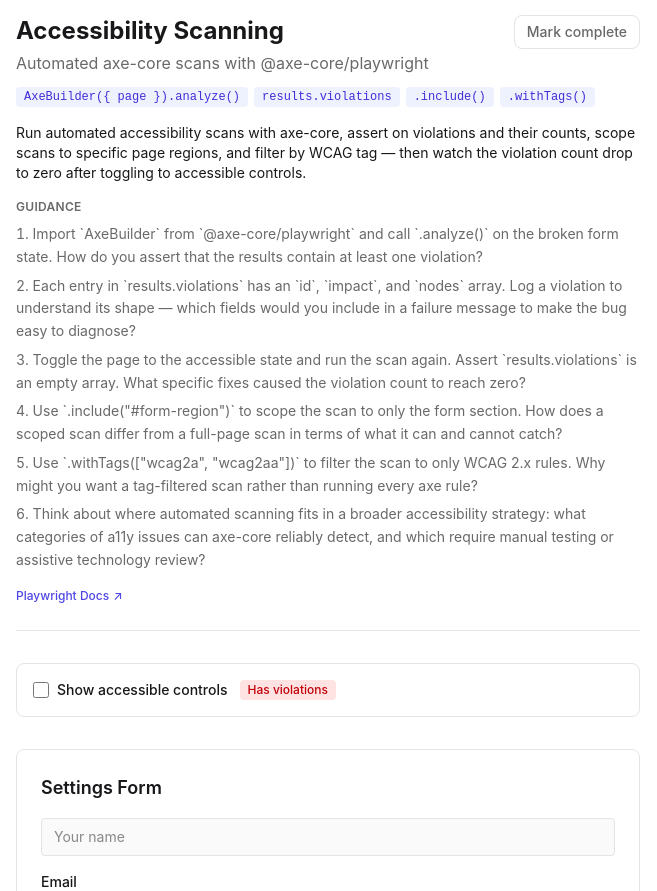
it: AccessibilityScanning › toggles between the intentionally broken and accessible form states
Expected: the text "Has violations" is shown, x1=240 y1=680 x2=336 y2=700
Expected: the field with placeholder "Your name" is shown, x1=41 y1=818 x2=615 y2=856
What coordinates should you click on to do the following:
click the checkbox labelled "Show accessible controls"
I would click on:
 (41, 690)
Its box is x1=33 y1=682 x2=49 y2=698.
(page scrolled)
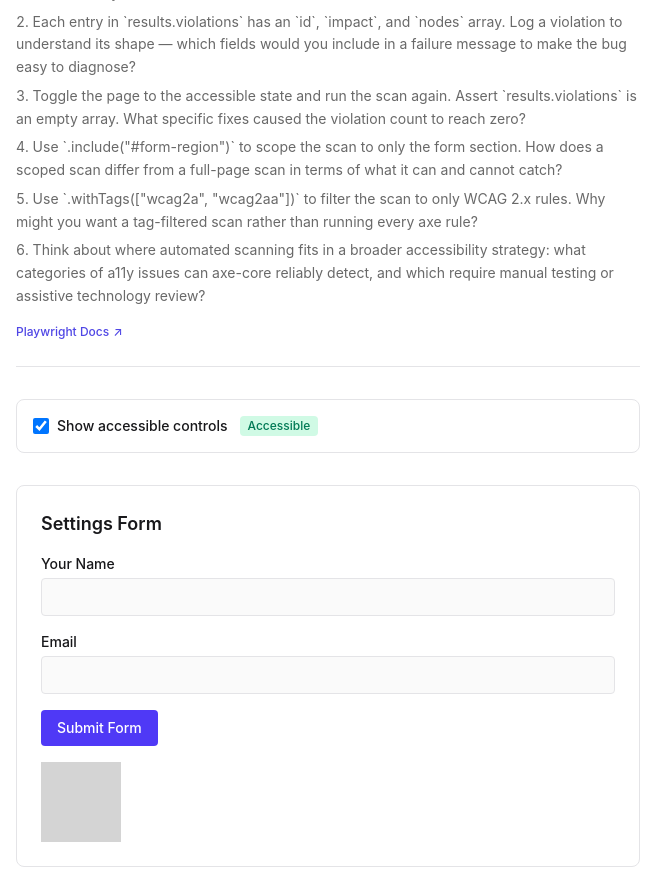
Expected: the text "Accessible" is shown, x1=240 y1=416 x2=318 y2=436
Expected: the field labelled "Your Name" is shown, x1=41 y1=578 x2=615 y2=616
